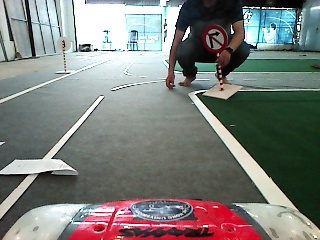ban_right: (202, 24, 227, 54)
